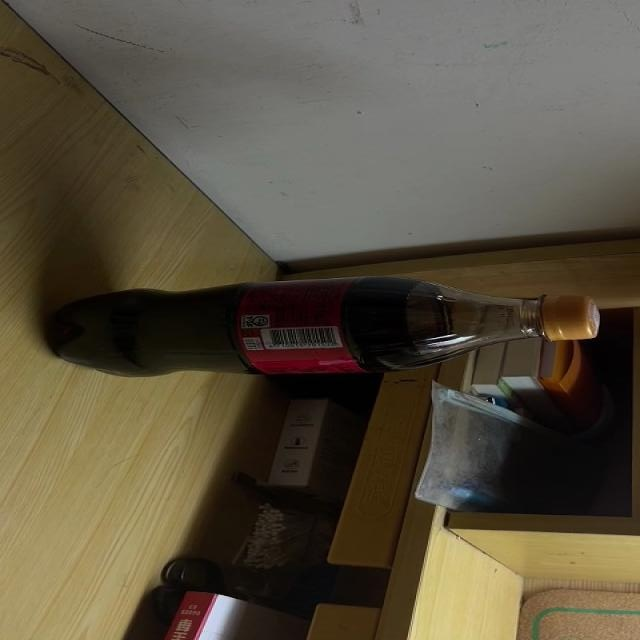Coca-Cola: (43, 278, 600, 380)
